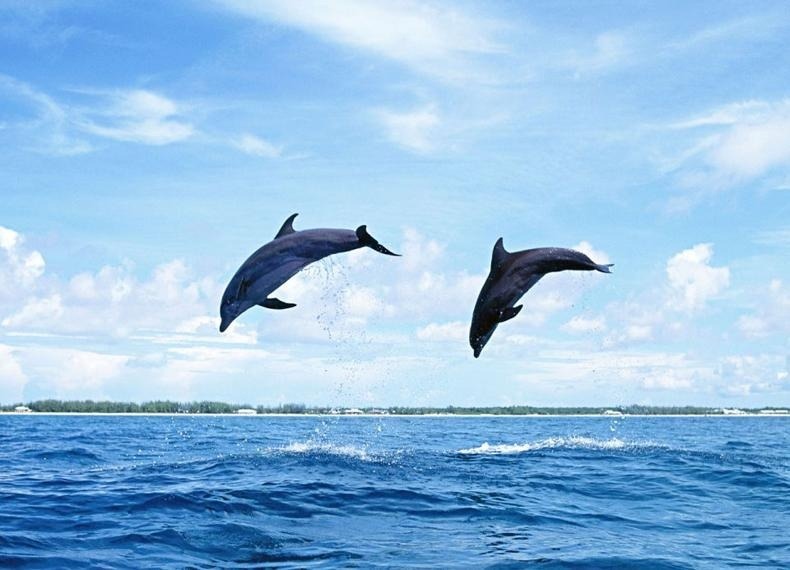fish: (213, 203, 403, 333), (464, 233, 619, 360)
